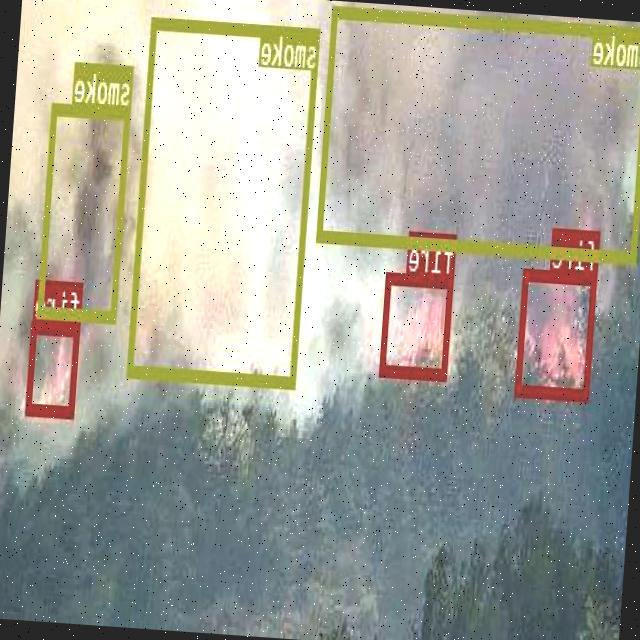fire: (516, 267, 598, 399), (380, 272, 456, 378), (26, 319, 81, 415)
smoke: (317, 4, 640, 261), (127, 15, 320, 386), (37, 102, 132, 320)
